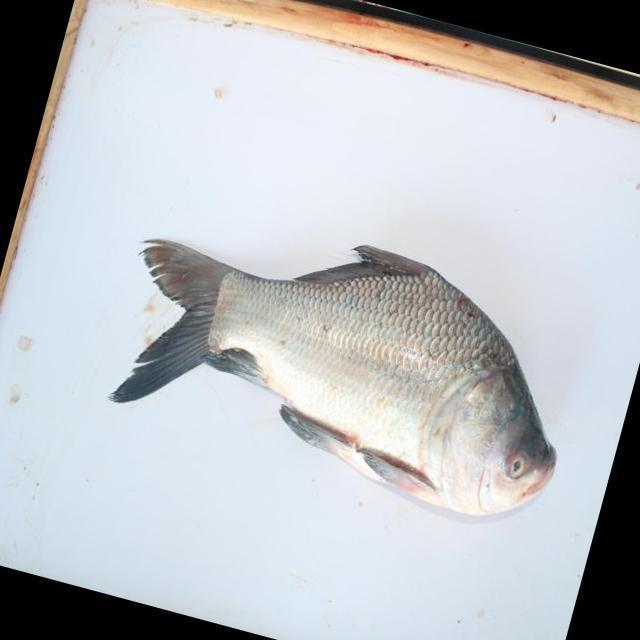Indian Carp: (106, 228, 552, 520)
